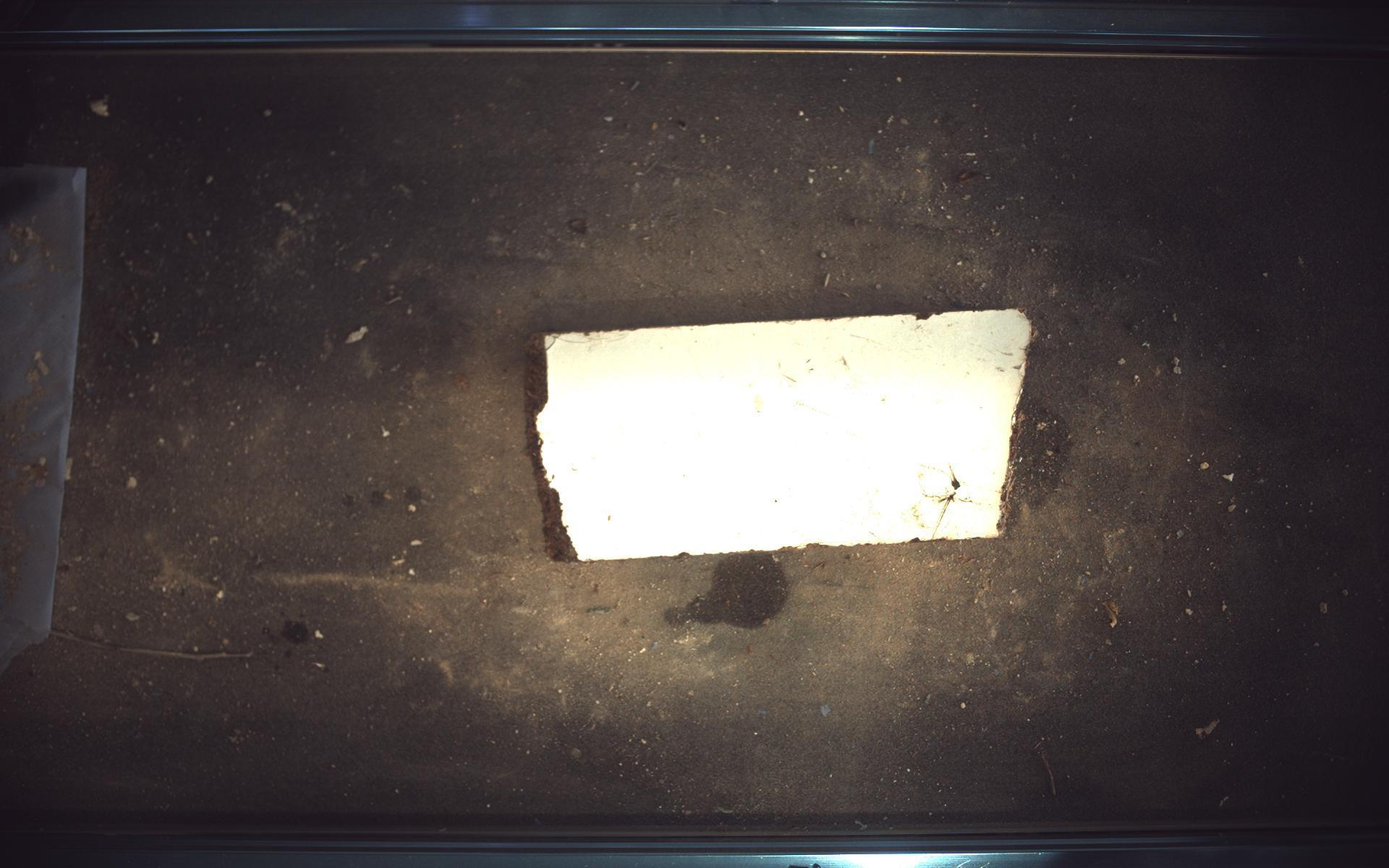wood: (527, 309, 1034, 561)
